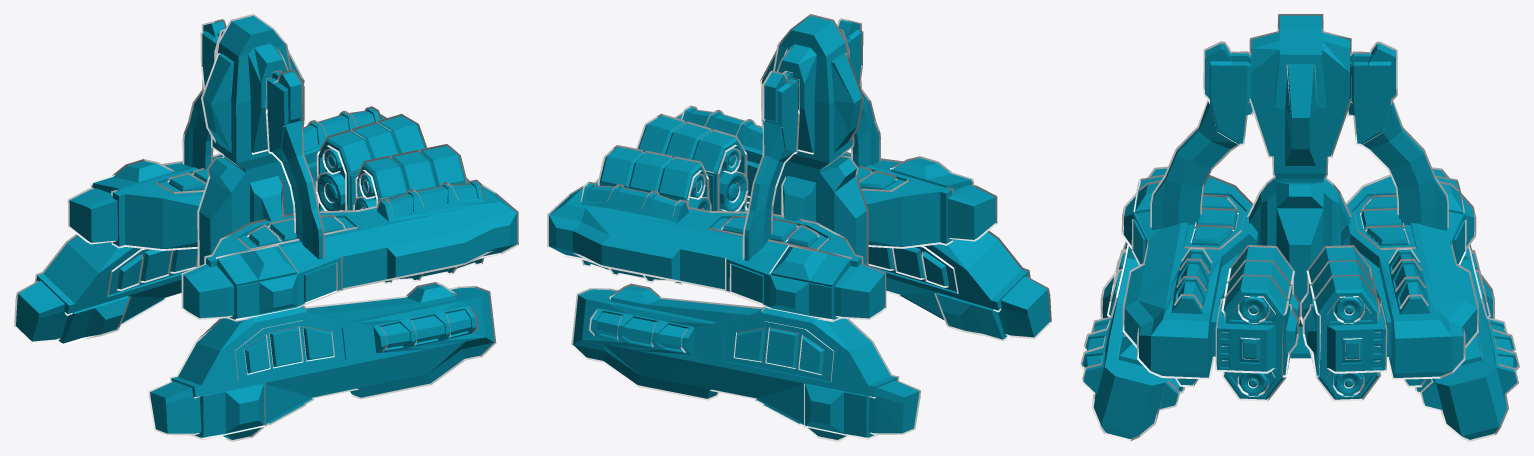
Rendered from ship5_blue.glb.
3 renders of one model, left to right at view 1: azimuth 30°, elevation 25°; view 2: azimuth 150°, elevation 25°; view 3: azimuth 270°, elevation 25°, orthographic. The views are drawn at different scales.
Visible parts, largest first — view 1: ME_ship_IndexedFaceSet; view 2: ME_ship_IndexedFaceSet; view 3: ME_ship_IndexedFaceSet.
Boxes of the visible parts, <box> form: ME_ship_IndexedFaceSet: <box>14,14,518,441</box>; ME_ship_IndexedFaceSet: <box>547,14,1051,441</box>; ME_ship_IndexedFaceSet: <box>1080,14,1519,441</box>.
Size of the model in its own units: 431 by 383 by 402.
